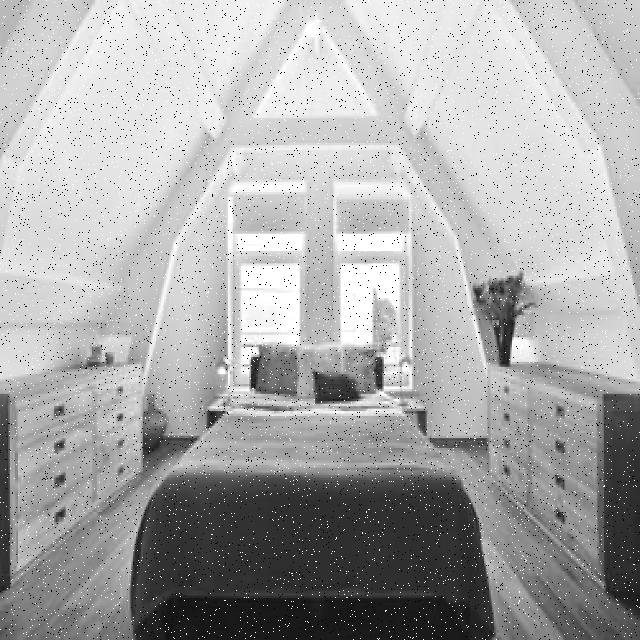bed: (138, 347, 476, 623)
